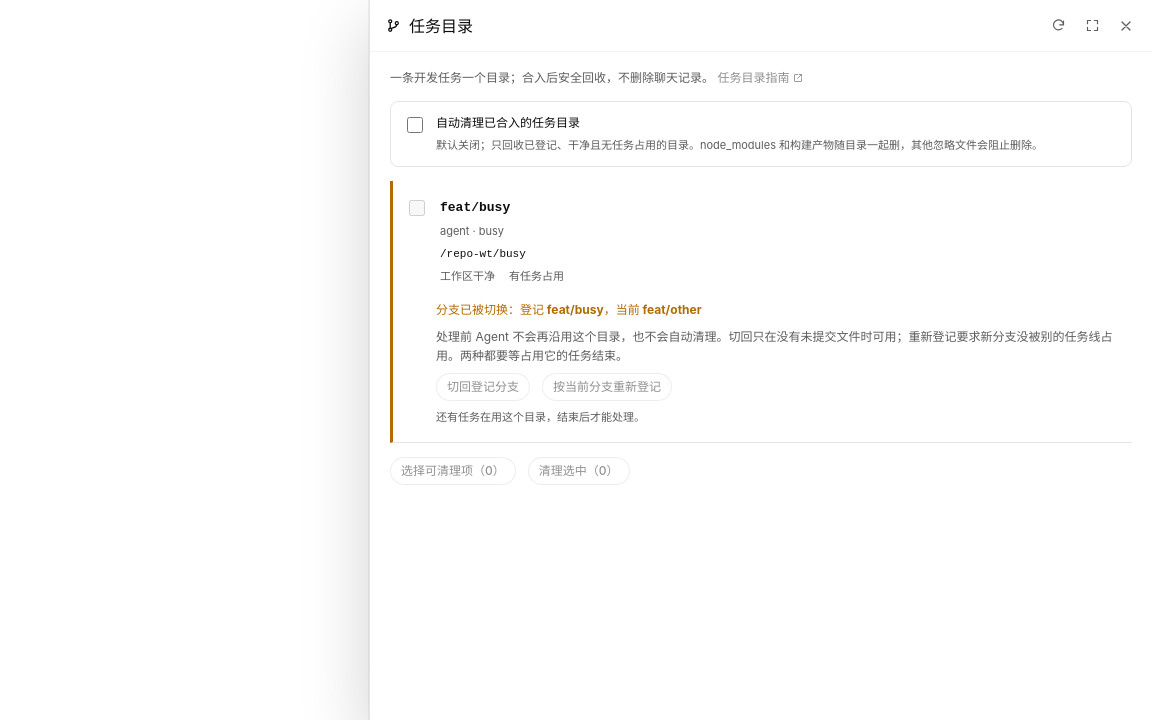
it: WorktreePanel › explains a refused fix and disables both while a task uses the checkout
expect the text "还有任务在用这个目录，结束后才能处理。" is shown: met, box [436,410,645,424]
expect the button "切回登记分支" is disabled: met, box [436,373,530,401]
Click the button named "刷新" at (1058, 26), box [1042,10,1074,42]
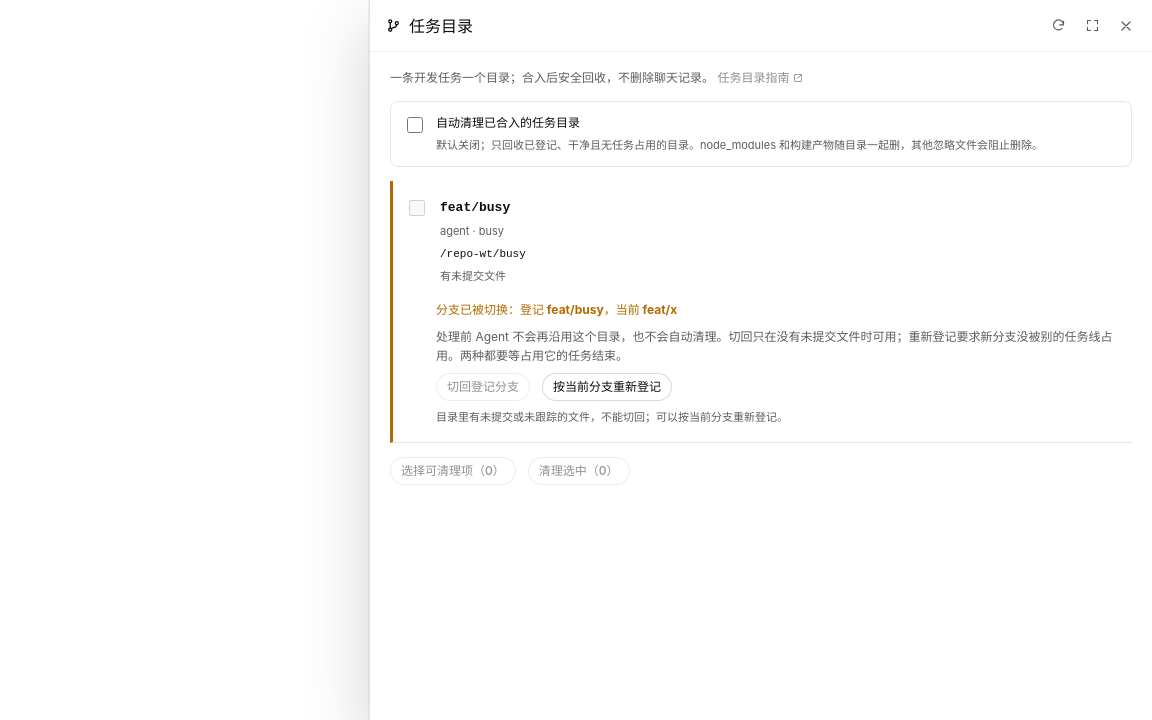
expect the button "按当前分支重新登记" is enabled: met
Click the button "按当前分支重新登记" at (607, 387), box [542,373,672,401]
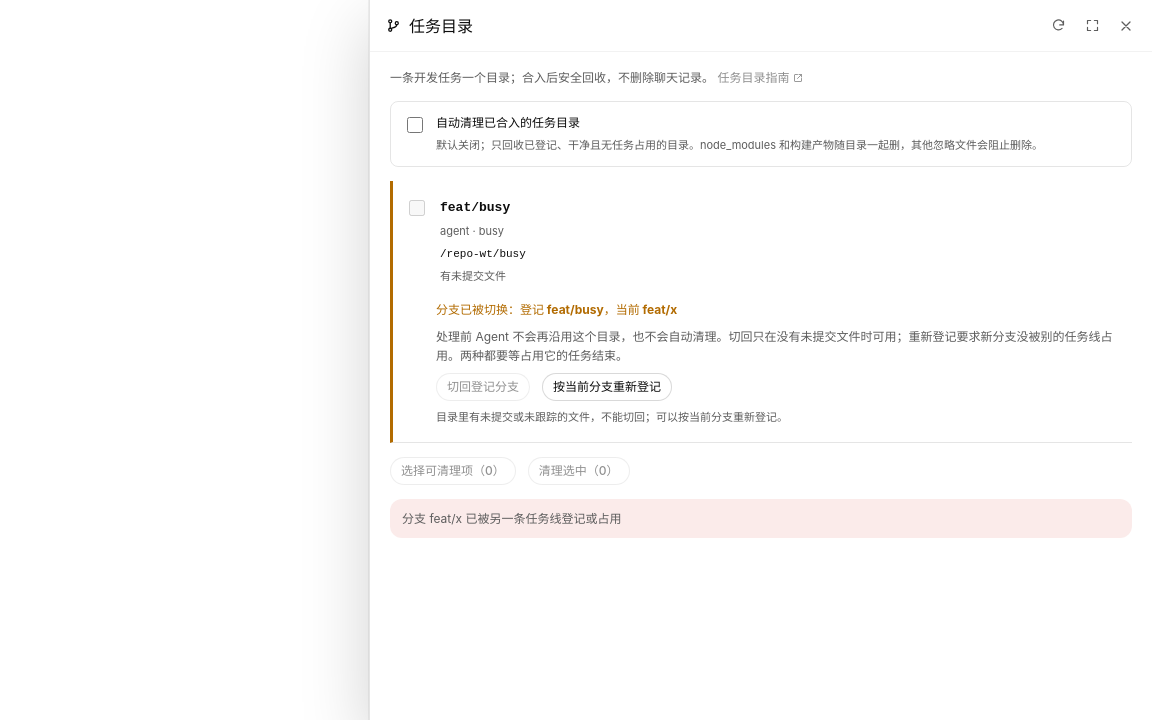
expect the text "分支 feat/x 已被另一条任务线登记或占用" is shown: met, box [390,499,1132,538]
